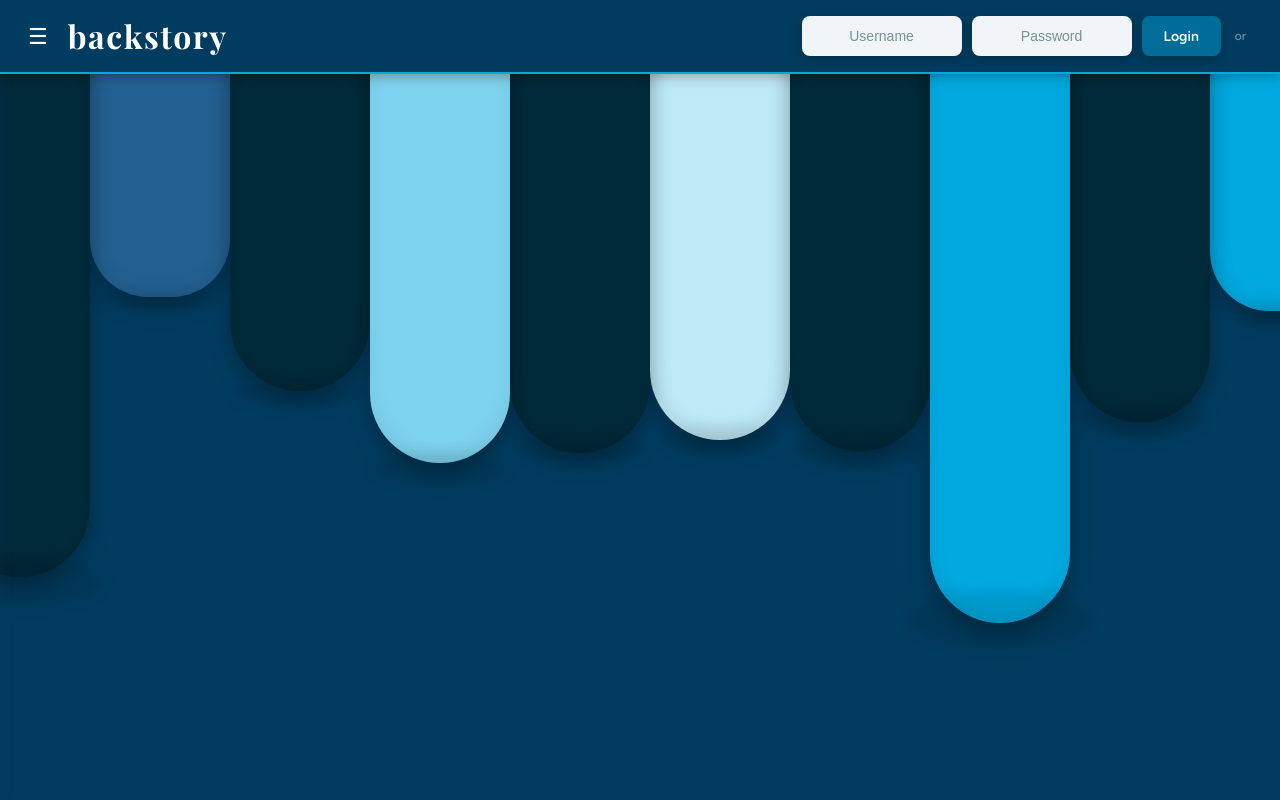
Scenario: Landing — filter panel › shows the empty state when no artifacts match the filter
Click the button named "Toggle filters" at [38, 36], box [20,18,56,54]
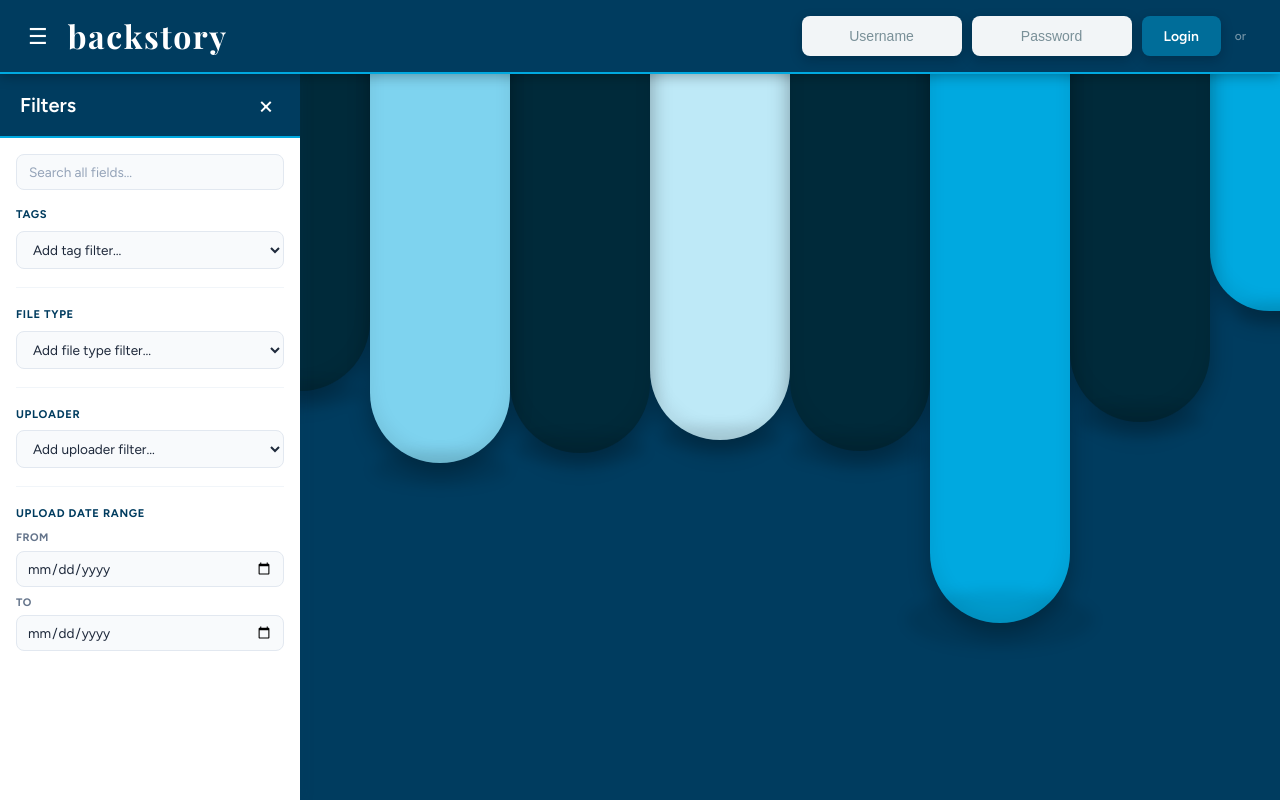
Type "xyzzy-no-match" into the search field with placeholder "Search all fields…" at [150, 172], box [16,154,284,190]
(page scrolled)
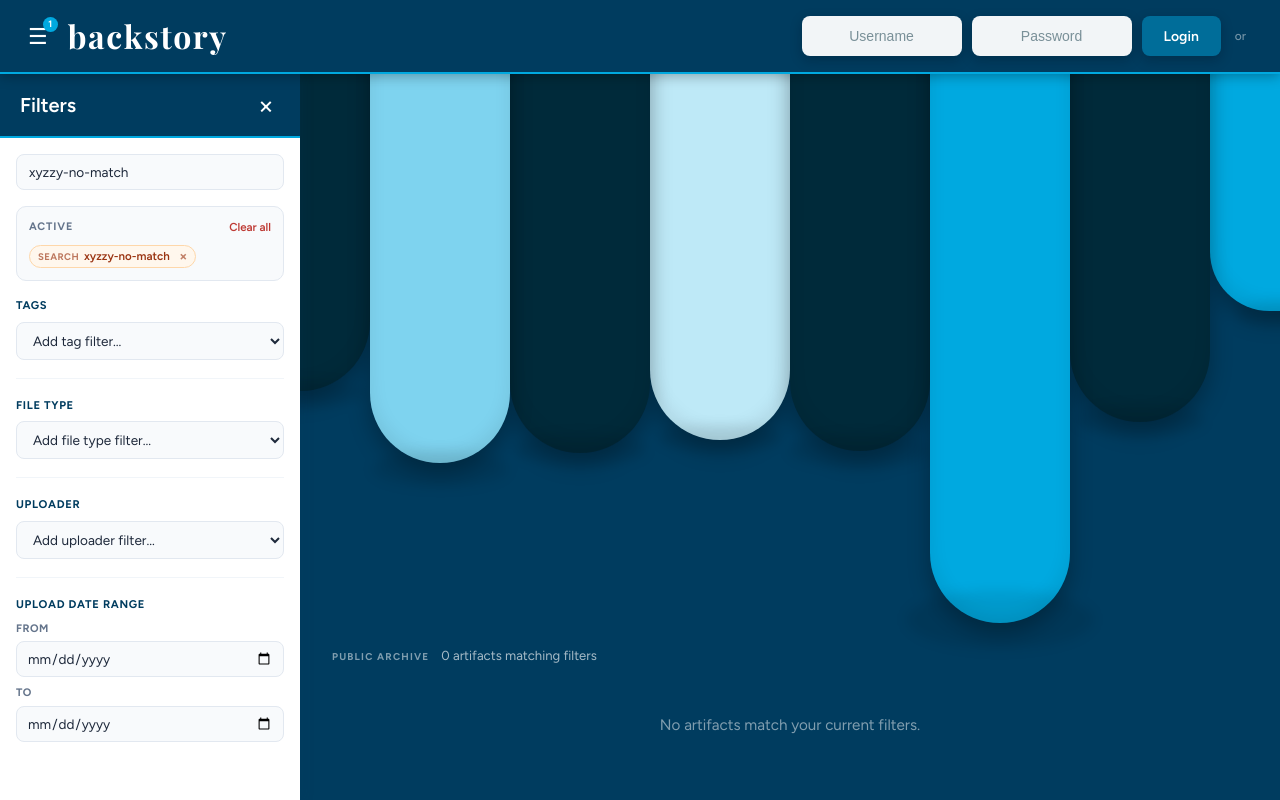
Expected: the text "No artifacts match your current filters." is shown, [660,716,920,734]
